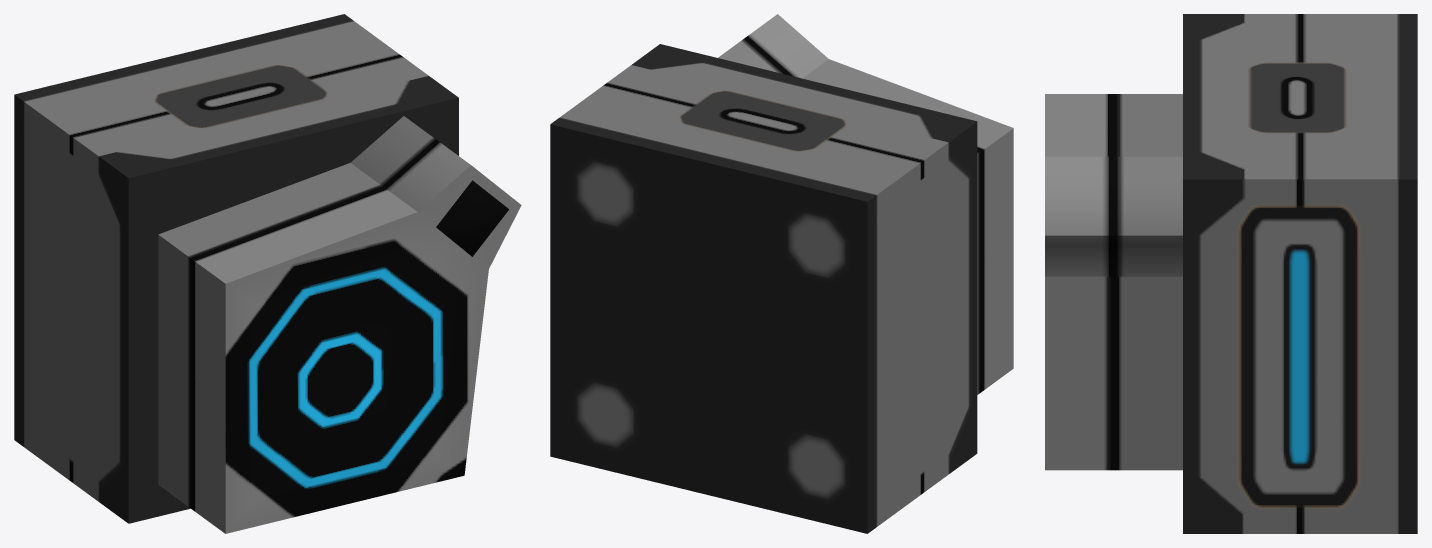
Rendered from obj_interactive_sensor_lod1.fbx.
3 renders of one model, left to right at view 1: azimuth 30°, elevation 25°; view 2: azimuth 150°, elevation 25°; view 3: azimuth 270°, elevation 25°, orthographic. The views are drawn at different scales.
Parts seen in each view (by area): view 1: obj_interactive_sensor_lod1; view 2: obj_interactive_sensor_lod1; view 3: obj_interactive_sensor_lod1.
Part boxes in pixels (x1,y1,x2,y2): obj_interactive_sensor_lod1: (14,14,521,533); obj_interactive_sensor_lod1: (550,14,1013,533); obj_interactive_sensor_lod1: (1045,14,1417,533).
Bounding box in the file's own units: 1 × 1 × 0.9599.
Materials: 1 (1 with a texture image).
